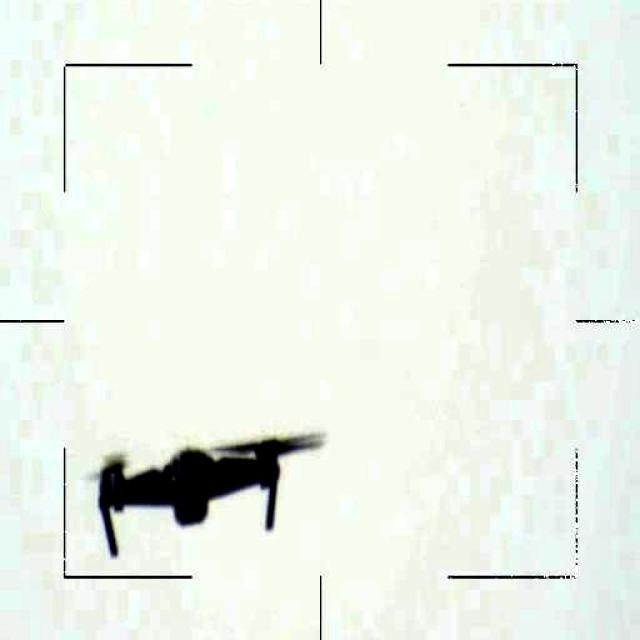bird: (76, 430, 328, 556)
